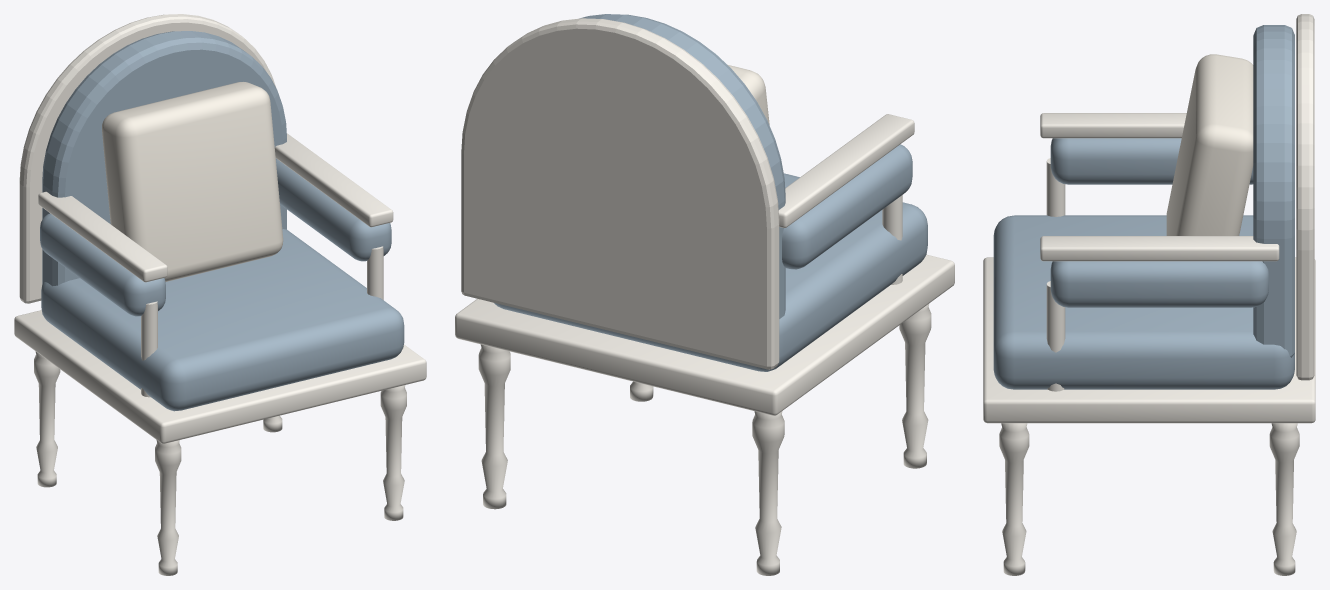
Rendered from bergere.glb.
The picture shows the model from 3 angles, left to right: view 1: azimuth 30°, elevation 25°; view 2: azimuth 150°, elevation 25°; view 3: azimuth 270°, elevation 25°; orthographic projection. The views are drawn at different scales.
Parts seen in each view (by area): view 1: seat, cushion, back, seatframe, backframe, arm, arm.001, armrest, armrest.001, leg, leg.002, leg.001 (+2 smaller); view 2: backframe, seatframe, seat, arm, armrest, back, leg.001, leg.003, leg, cushion, armpost; view 3: seat, seatframe, cushion, back, arm.001, backframe, armrest.001, arm, armrest, leg.002, leg.003, armpost.001 (+1 smaller).
Part boxes in pixels (left/top/right/bottom): seat: left=41, top=229, right=404, bottom=411; cushion: left=102, top=81, right=283, bottom=281; back: left=42, top=31, right=286, bottom=286; seatframe: left=14, top=310, right=426, bottom=443; backframe: left=19, top=14, right=276, bottom=303; arm: left=40, top=213, right=165, bottom=316; arm.001: left=276, top=159, right=391, bottom=261; armrest: left=38, top=191, right=167, bottom=282; armrest.001: left=275, top=133, right=393, bottom=227; leg: left=155, top=440, right=181, bottom=575; leg.002: left=380, top=385, right=406, bottom=520; leg.001: left=34, top=351, right=60, bottom=487; backframe: left=461, top=18, right=779, bottom=369; seatframe: left=455, top=254, right=954, bottom=415; seat: left=494, top=173, right=927, bottom=371; arm: left=782, top=144, right=912, bottom=269; armrest: left=778, top=114, right=914, bottom=227; back: left=579, top=14, right=785, bottom=318; leg.001: left=752, top=411, right=784, bottom=575; leg.003: left=478, top=344, right=510, bottom=509; leg: left=899, top=303, right=931, bottom=468; cushion: left=727, top=64, right=769, bottom=124; armpost: left=882, top=195, right=902, bottom=284; seat: left=993, top=215, right=1294, bottom=389; seatframe: left=983, top=257, right=1315, bottom=423; cushion: left=1166, top=54, right=1253, bottom=235; back: left=1253, top=25, right=1294, bottom=357; arm.001: left=1050, top=261, right=1268, bottom=307; backframe: left=1296, top=14, right=1314, bottom=380; armrest.001: left=1040, top=236, right=1279, bottom=261; arm: left=1050, top=138, right=1253, bottom=184; armrest: left=1040, top=113, right=1186, bottom=138; leg.002: left=999, top=423, right=1029, bottom=575; leg.003: left=1269, top=423, right=1299, bottom=575; armpost.001: left=1046, top=281, right=1065, bottom=391.
Bounding box in the file's own units: 0.66 × 1.02 × 0.64.
